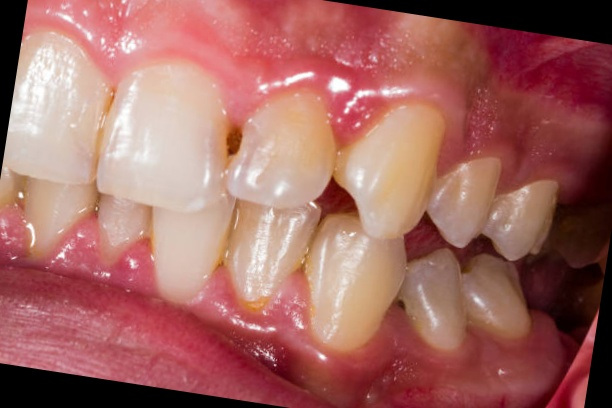Gingivitis: (463, 73, 546, 163), (317, 48, 387, 136)
